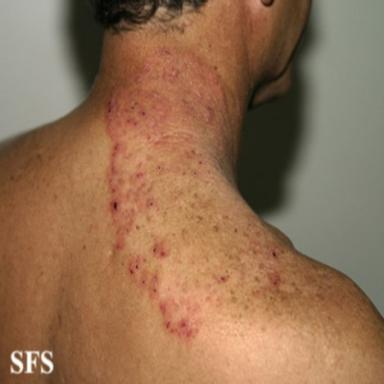Tinea-Corporis: (105, 49, 286, 347)
